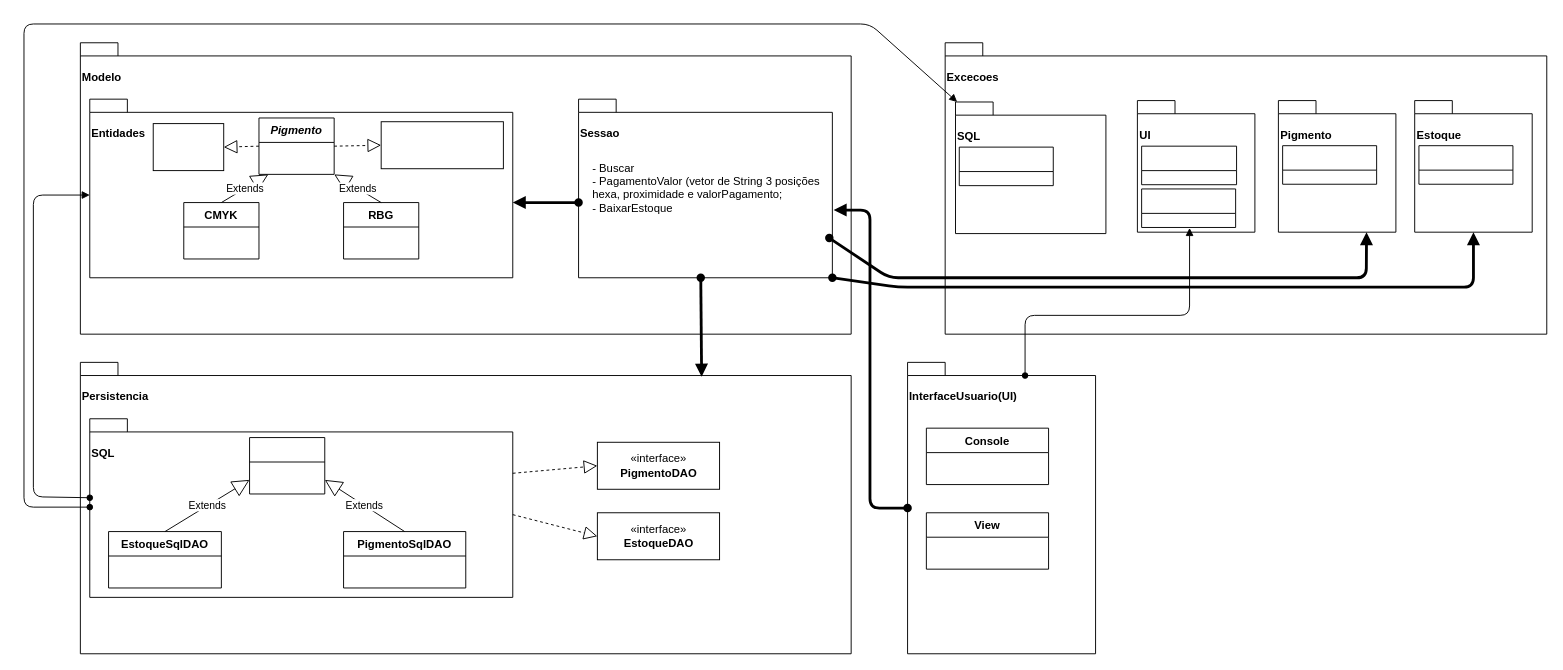
This 1563x670 diagram has some shape labels left out. Here are the shapes that lost their labels. From the top down, the centre of each, then its label:
the point at 188,147: «interface» Estoque
the point at 441,145: «interface» ServicosPigmento
the point at 1189,165: HexaInvalido
the point at 1329,164: PigaNaoComp
the point at 1465,164: EstNaoDisp
the point at 1005,166: ErroConexao
the point at 1188,207: QtdInvalida
the point at 287,465: ConexaoSQL
